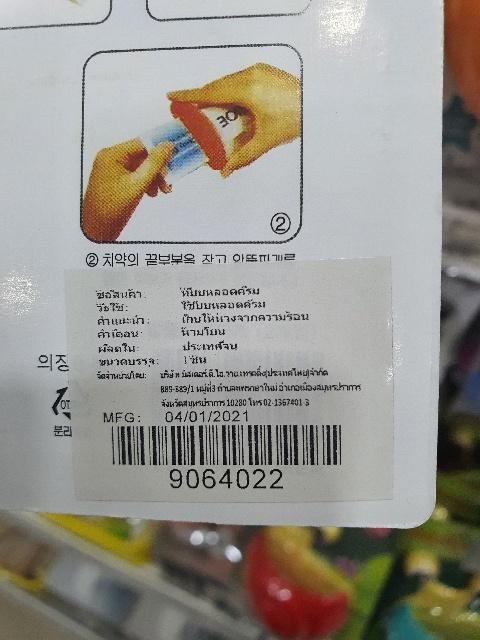Barcode: (101, 416, 353, 494)
